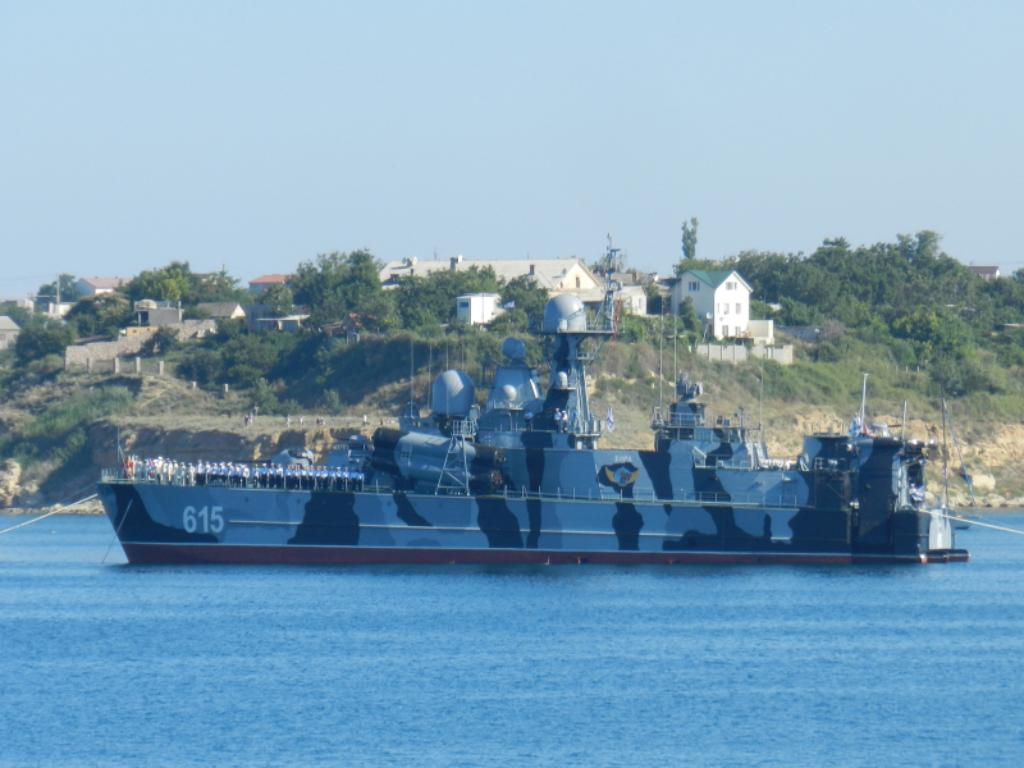Warship: (93, 286, 971, 566)
